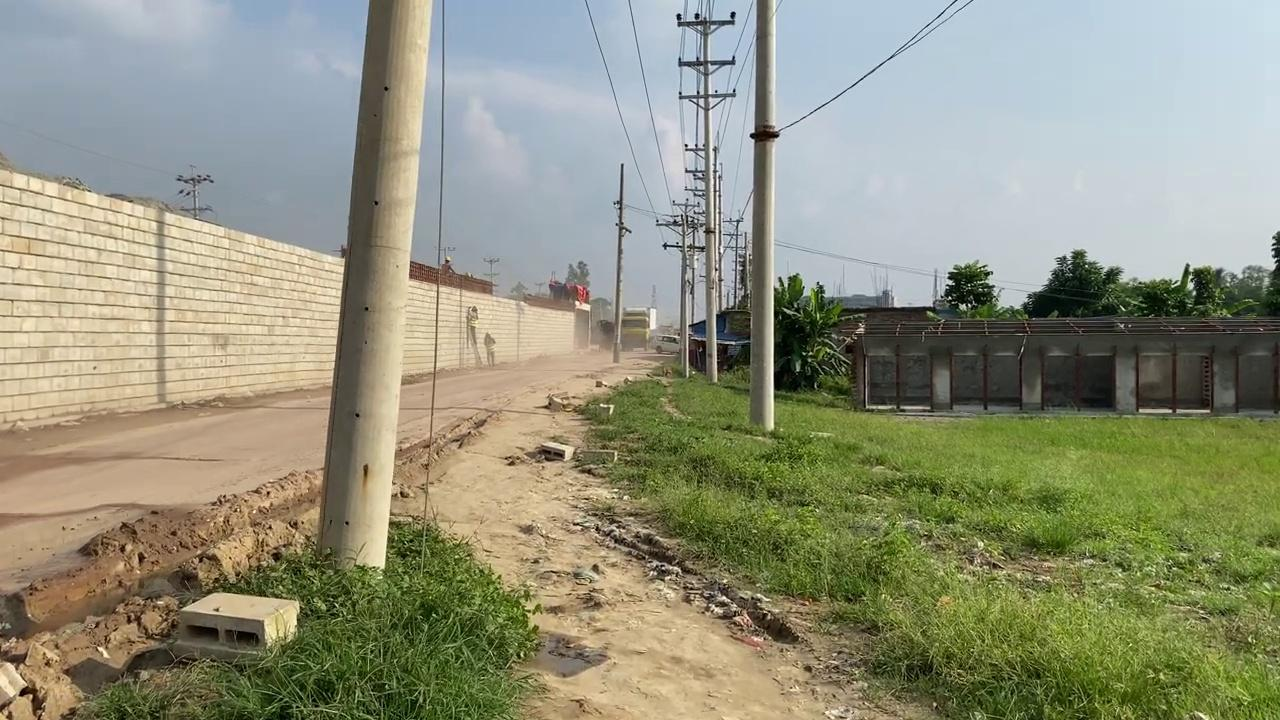Car: (653, 334, 679, 354)
Fence: (844, 314, 1278, 415)
Garbage-bin: (687, 308, 751, 374)
Obstacle: (173, 590, 300, 660)
Pole: (315, 0, 434, 575), (747, 0, 777, 431), (611, 163, 625, 363)
Rickshaw: (392, 355, 937, 718)
Traffic-sign: (1024, 247, 1128, 317), (940, 258, 999, 316)
Tree: (548, 278, 589, 304)
Upstairs: (0, 166, 589, 428)
